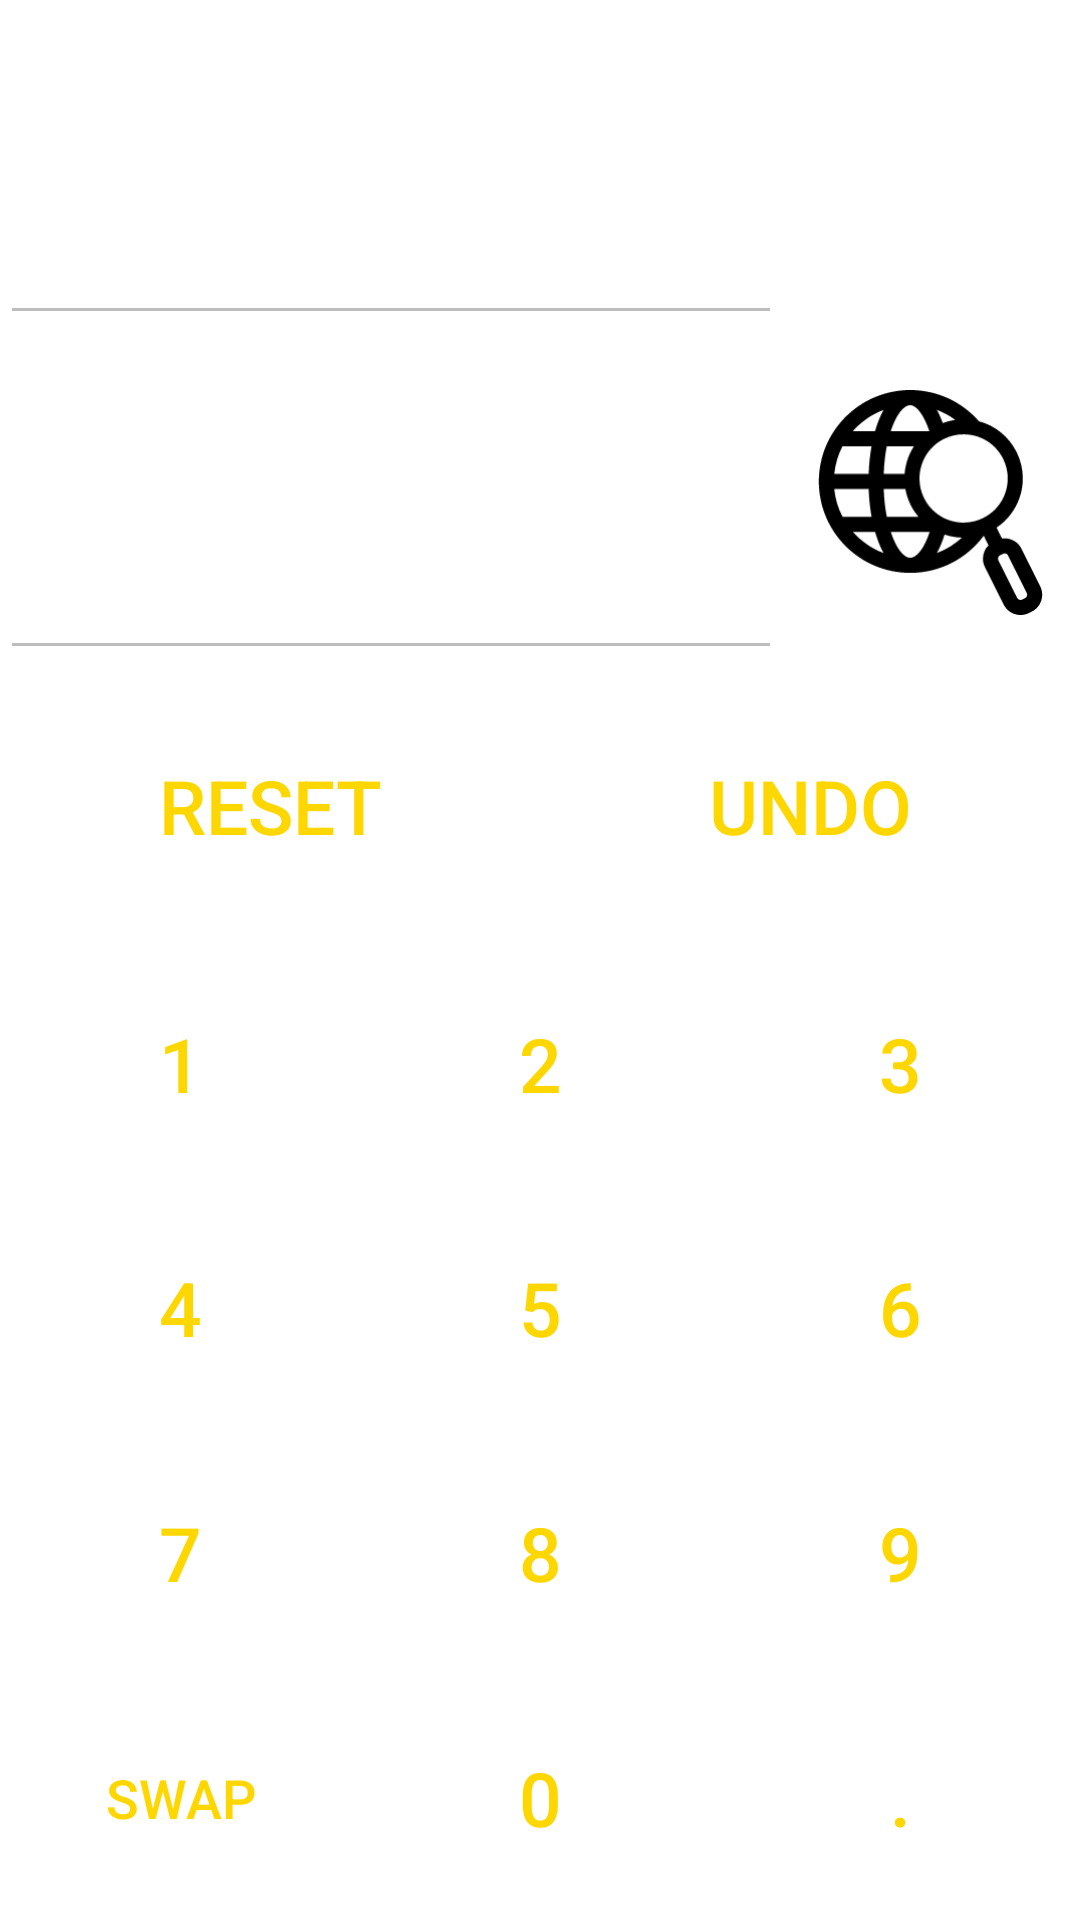

Point at icon controls on the screen. Image size 1080 x 1920, points as (x=x, y=y).
find location: (x=930, y=502)
